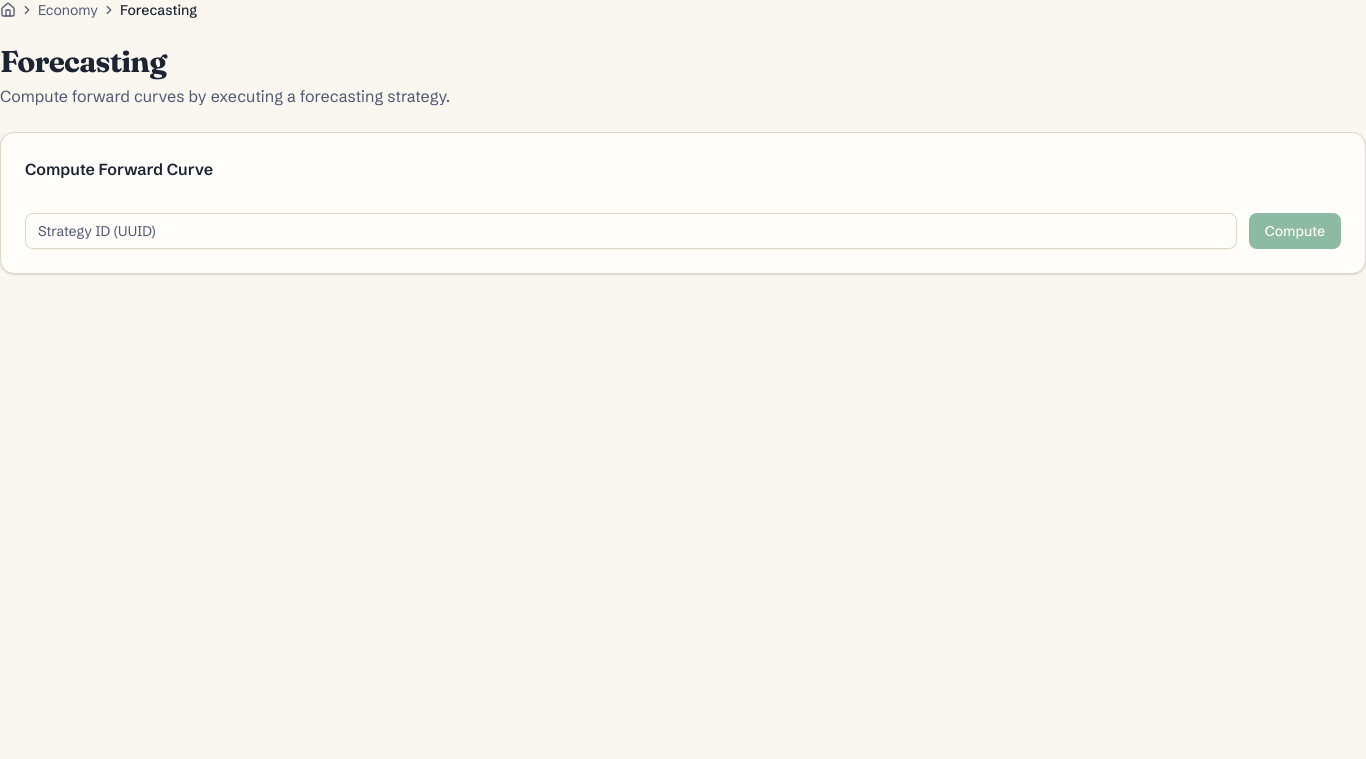
ForecastingPage › shows empty curve chart when no forecast points returned
Step 1. Type "550e8400-e29b-41d4-a716-446655440000" into the field labelled "Strategy ID (UUID)" → (631, 231), box [25,213,1237,249]
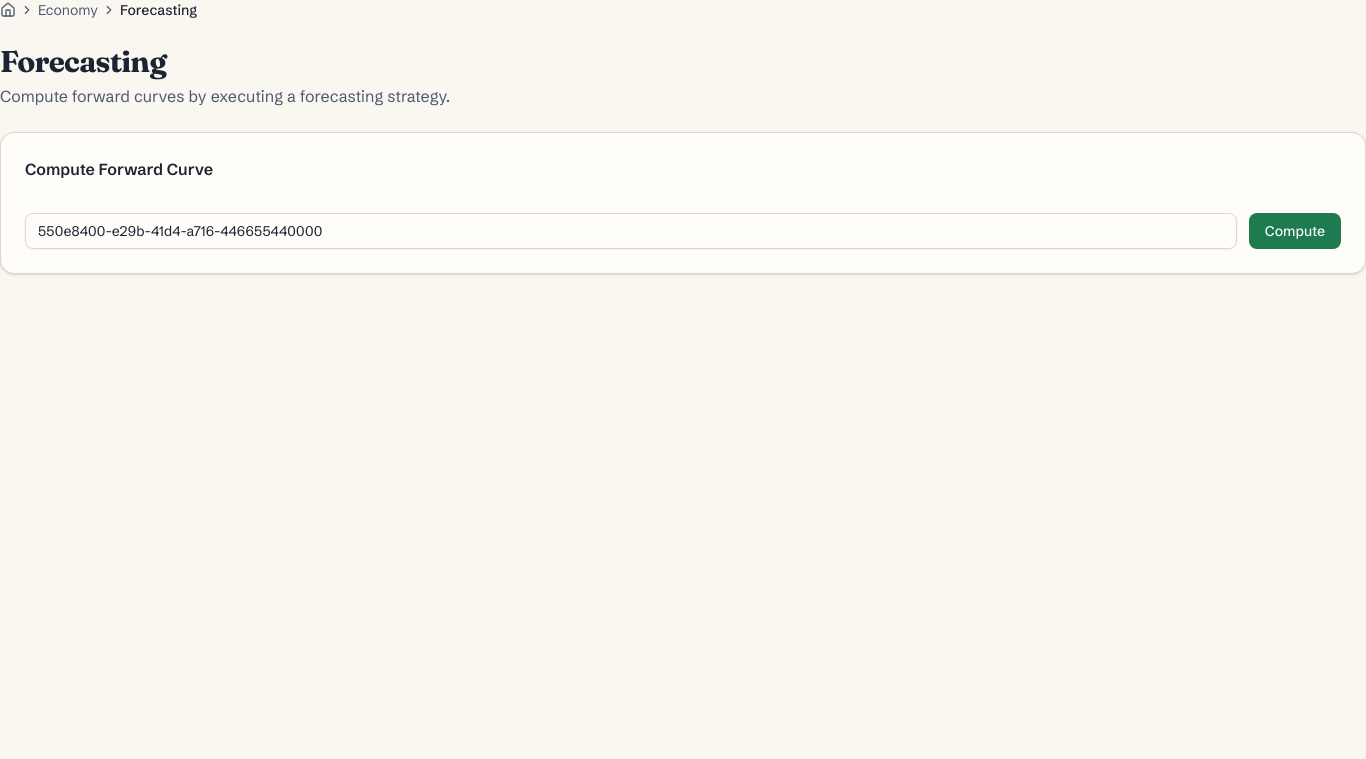
Step 2. Submit the form named "forward curve form", box [25,213,1341,249]
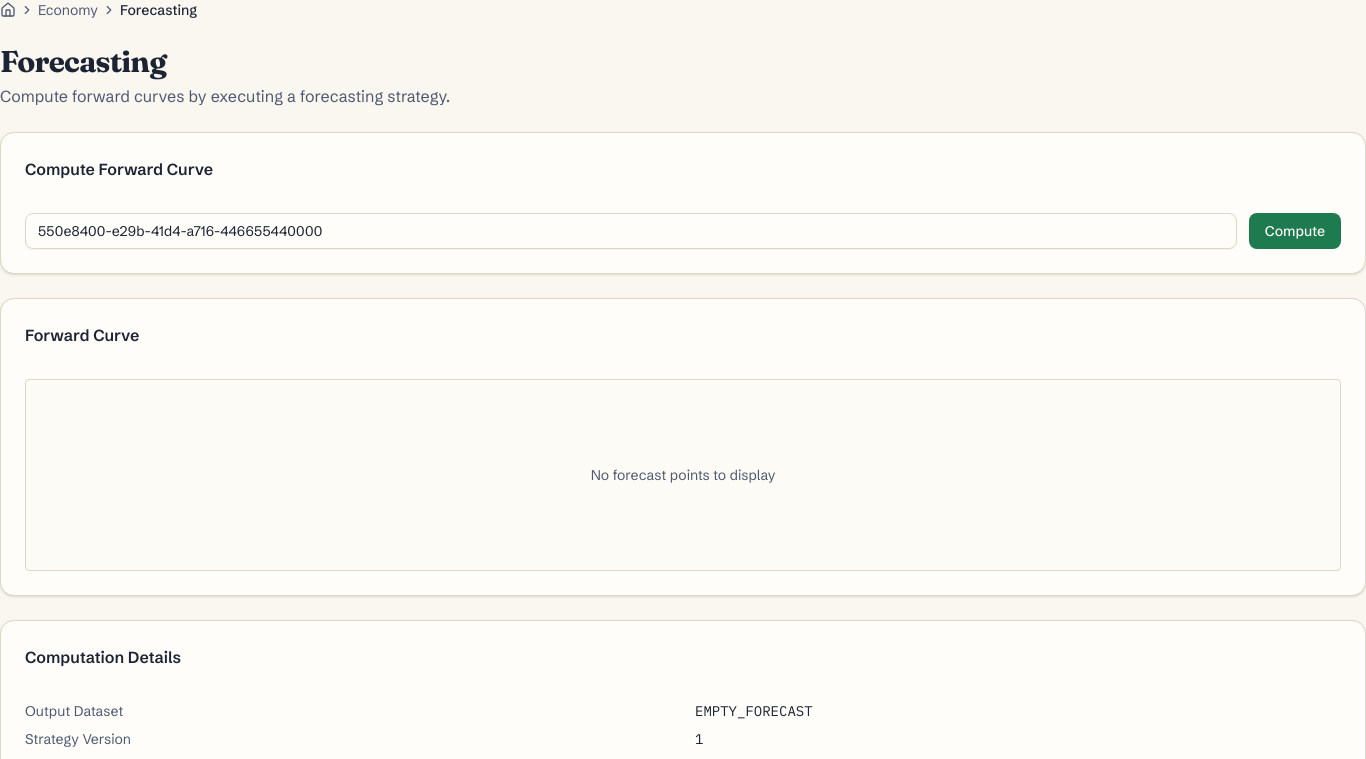
Result: the text "No forecast points to display" is shown at [25,379,1341,571]
